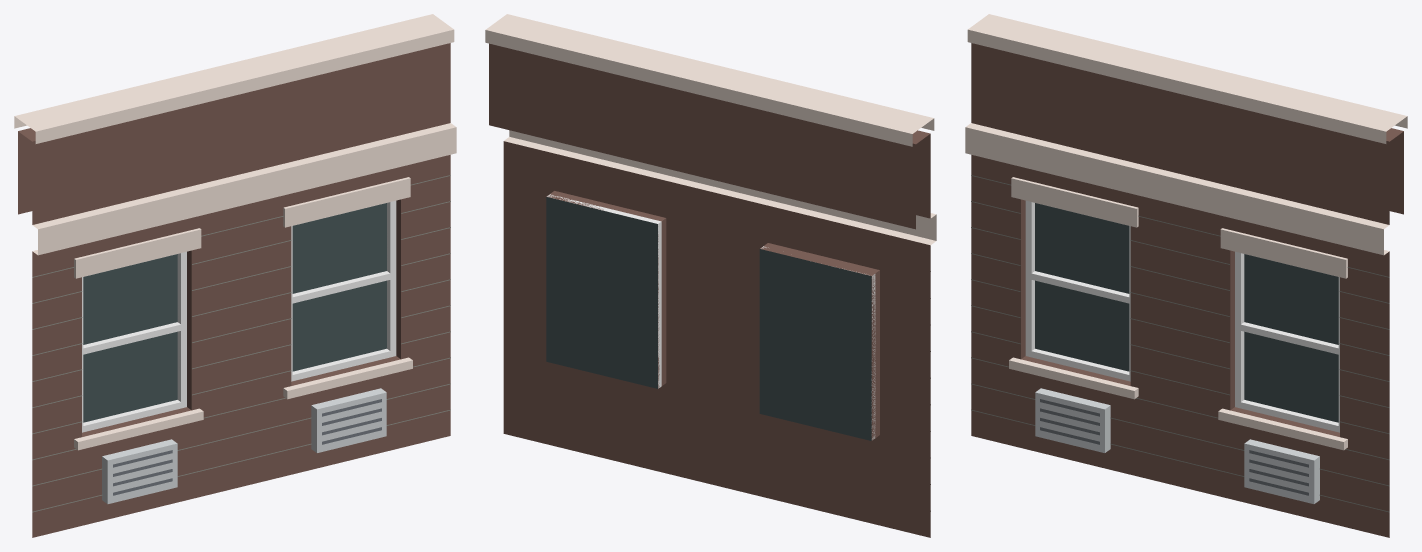
The model's file is top-w1_close.fbx.
3 views of the same model, side by side, from view 1: azimuth 30°, elevation 25°; view 2: azimuth 150°, elevation 25°; view 3: azimuth 330°, elevation 25° (orthographic). The views are drawn at different scales.
Visible parts, largest first — view 1: a2007/500/top-w1_close; view 2: a2007/500/top-w1_close; view 3: a2007/500/top-w1_close.
Boxes of the visible parts, x1,y1,x2,y2 form: a2007/500/top-w1_close: (14, 14, 456, 537); a2007/500/top-w1_close: (485, 14, 936, 537); a2007/500/top-w1_close: (965, 14, 1407, 537).
Bounding box in the file's own units: 4.2 × 3.92 × 0.412.
